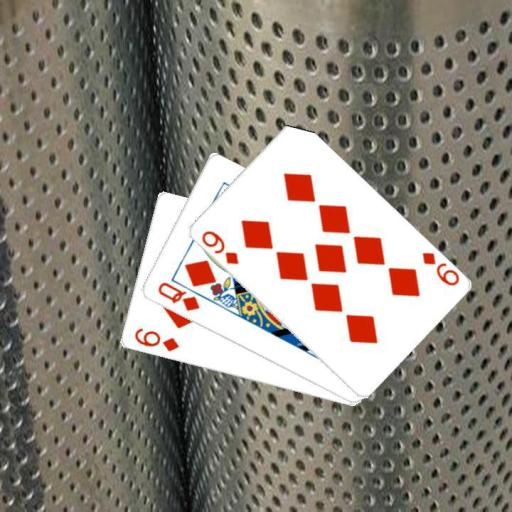6D: (131, 325, 180, 353)
9D: (418, 249, 461, 287), (198, 228, 240, 266)
QD: (155, 279, 202, 313)
